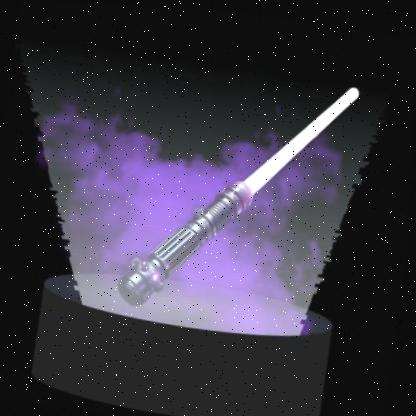lightsaber: (110, 52, 363, 338)
